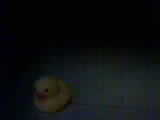duck: (24, 64, 70, 108)
